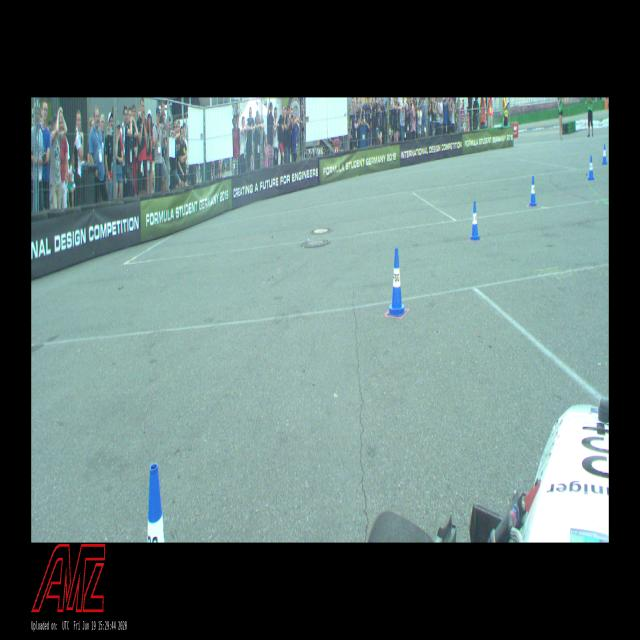blue_cone: (148, 463, 166, 542), (387, 248, 406, 316), (470, 201, 480, 240), (529, 175, 537, 206), (588, 155, 594, 181), (602, 144, 607, 165)
